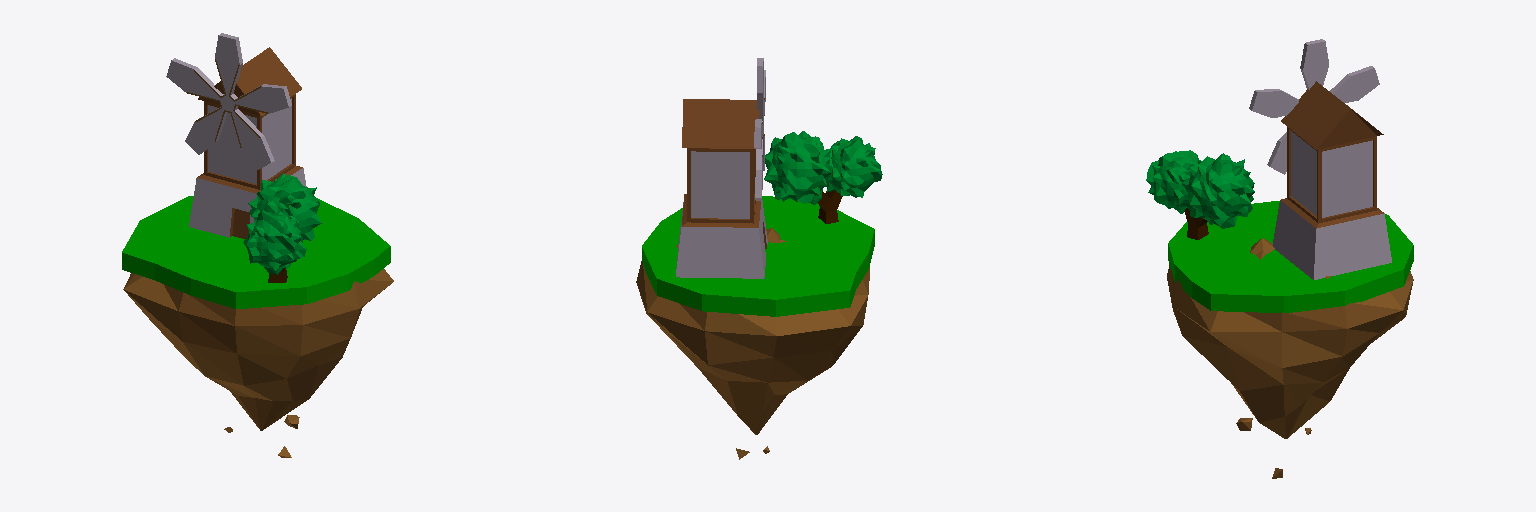
Rendered from low-poly-mill.obj.
3 renders of one model, left to right at view 1: azimuth 30°, elevation 25°; view 2: azimuth 150°, elevation 25°; view 3: azimuth 270°, elevation 25°, orthographic.
Parts seen in each view (by area): view 1: Island_Untitled.003, Green_platform_Untitled.004, Mill_Untitled.001, propeller_Untitled, Tree_Untitled.002; view 2: Island_Untitled.003, Green_platform_Untitled.004, Mill_Untitled.001, Tree_Untitled.002, propeller_Untitled; view 3: Island_Untitled.003, Mill_Untitled.001, Green_platform_Untitled.004, Tree_Untitled.002, propeller_Untitled.
Boxes of the visible parts, box(x1,y1,x2,y2) form: Island_Untitled.003: box(123, 269, 393, 457); Green_platform_Untitled.004: box(122, 196, 390, 308); Mill_Untitled.001: box(189, 47, 306, 238); propeller_Untitled: box(166, 33, 291, 169); Tree_Untitled.002: box(243, 173, 321, 282); Island_Untitled.003: box(636, 228, 869, 459); Green_platform_Untitled.004: box(642, 196, 874, 316); Mill_Untitled.001: box(676, 99, 767, 278); Tree_Untitled.002: box(764, 131, 882, 223); propeller_Untitled: box(754, 58, 765, 200); Island_Untitled.003: box(1167, 238, 1413, 478); Mill_Untitled.001: box(1273, 81, 1391, 279); Green_platform_Untitled.004: box(1168, 201, 1413, 312); Tree_Untitled.002: box(1146, 150, 1254, 239); propeller_Untitled: box(1249, 39, 1379, 174).
Bounding box in the file's own units: 1.05 × 1.95 × 1.13.